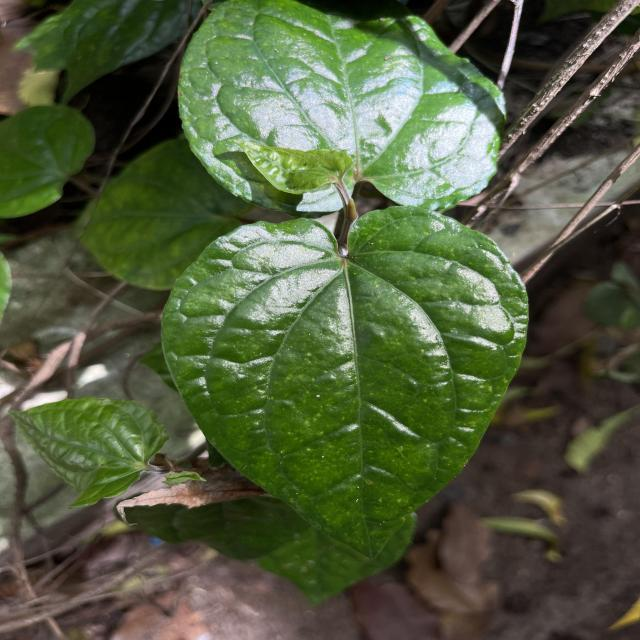Piper betle: (157, 202, 534, 564)
